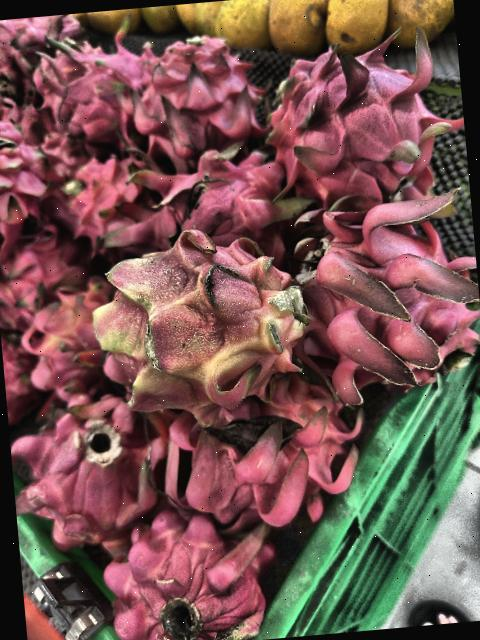buah-naga-belum-matang: (96, 224, 310, 402)
buah-naga-matang: (280, 183, 480, 408), (140, 365, 388, 526), (262, 33, 463, 218), (84, 501, 294, 640), (8, 392, 164, 554), (120, 137, 284, 259), (124, 32, 263, 166), (26, 281, 124, 400), (52, 149, 166, 245), (39, 36, 139, 138), (0, 12, 92, 82), (0, 116, 53, 221), (0, 228, 85, 292)
